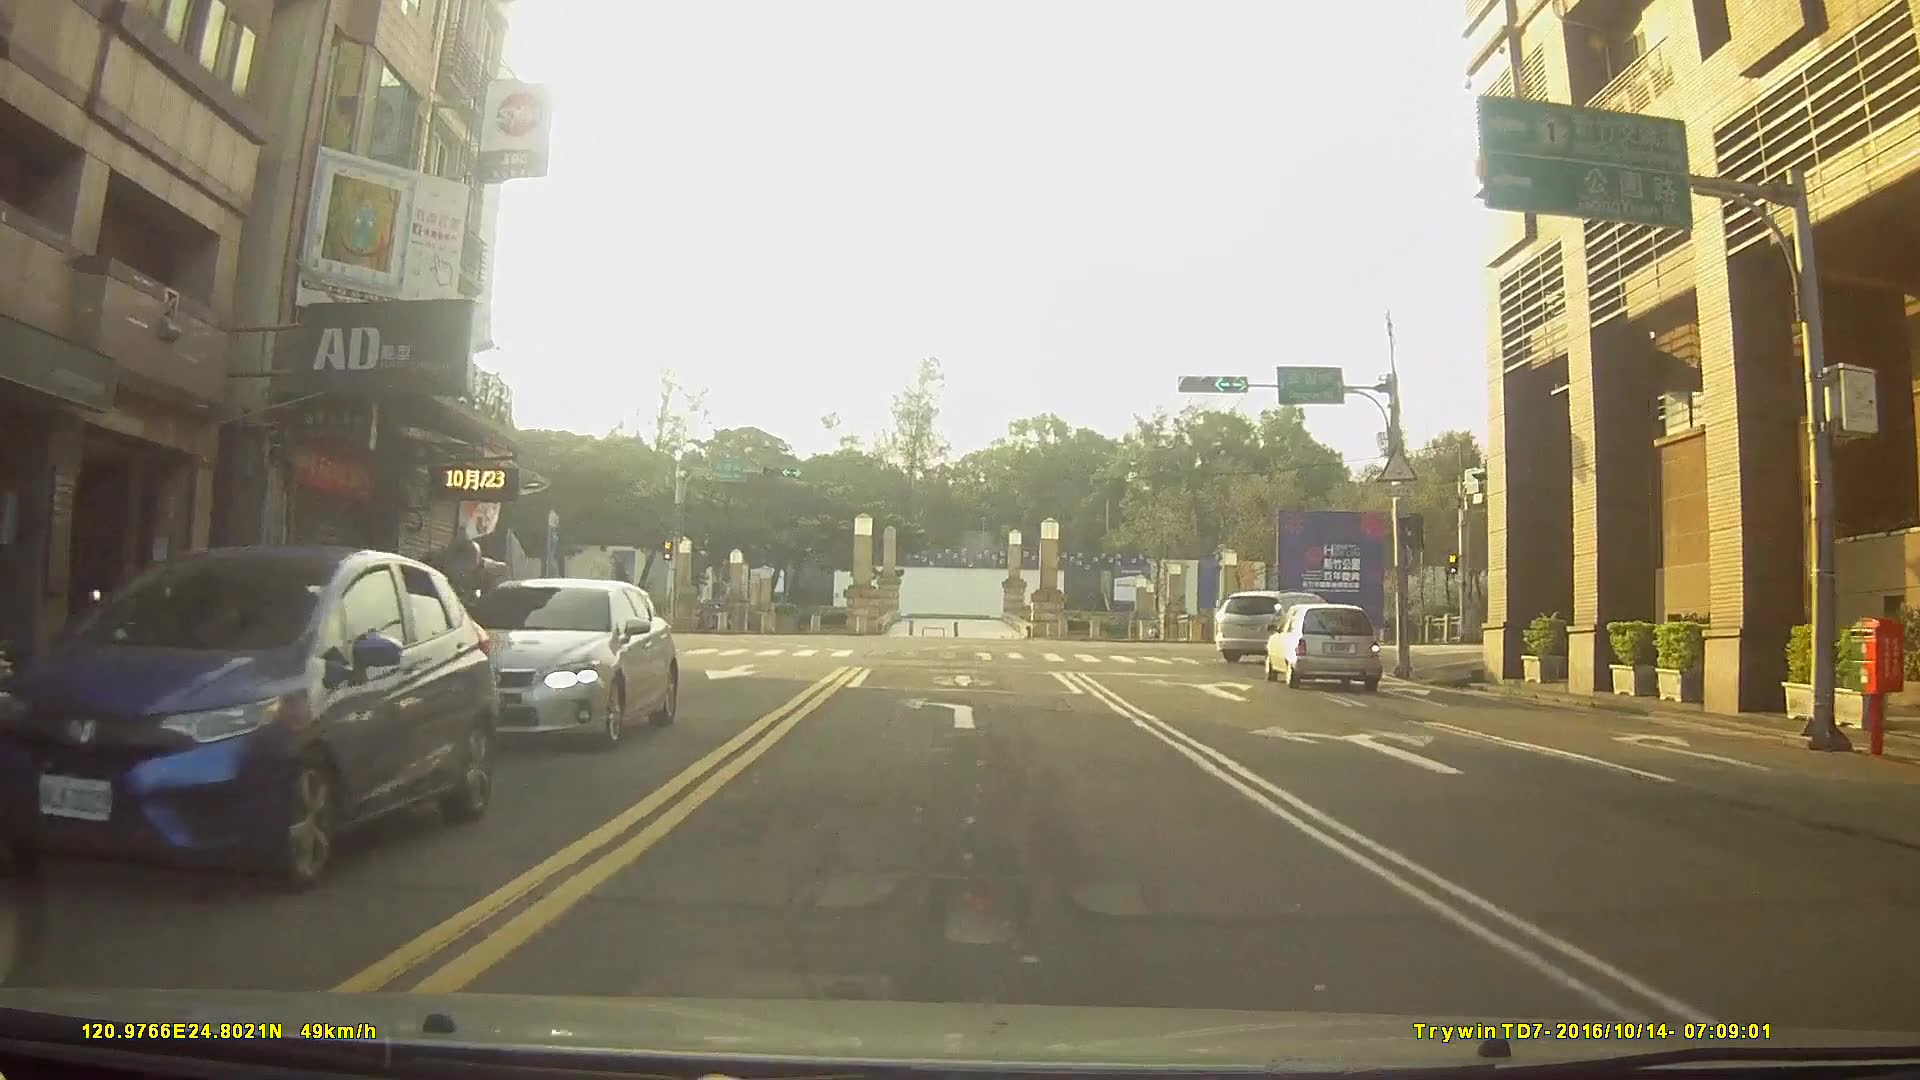vehicle: (0, 541, 495, 893), (444, 575, 676, 748), (1212, 588, 1346, 665), (1265, 603, 1382, 688)
